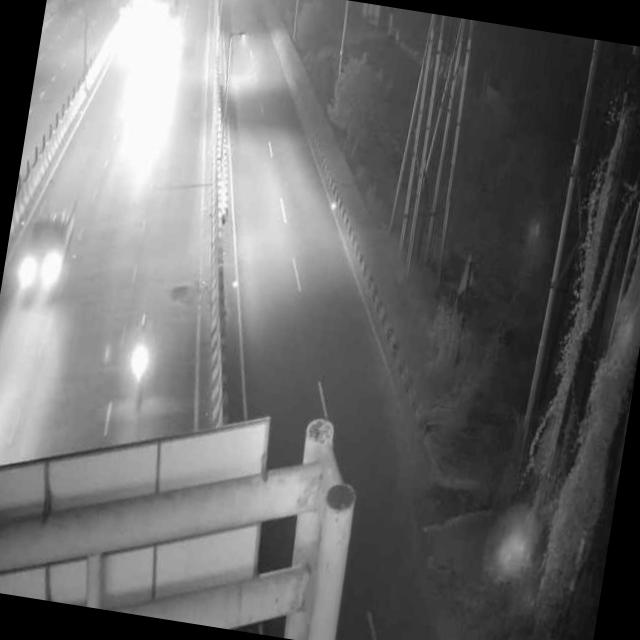car: (3, 190, 80, 308)
